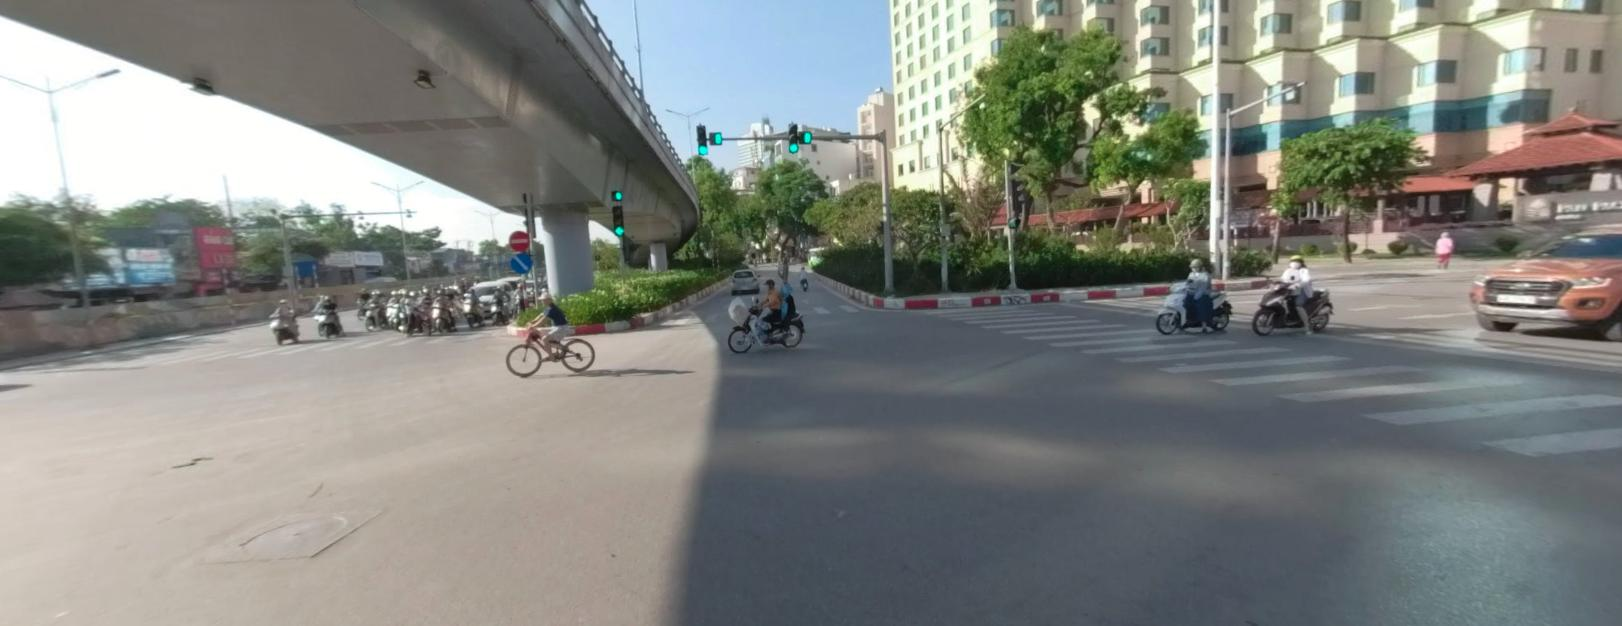Cam nguoc chieu: (508, 229, 529, 249)
Hieu lenh: (509, 250, 533, 271)
